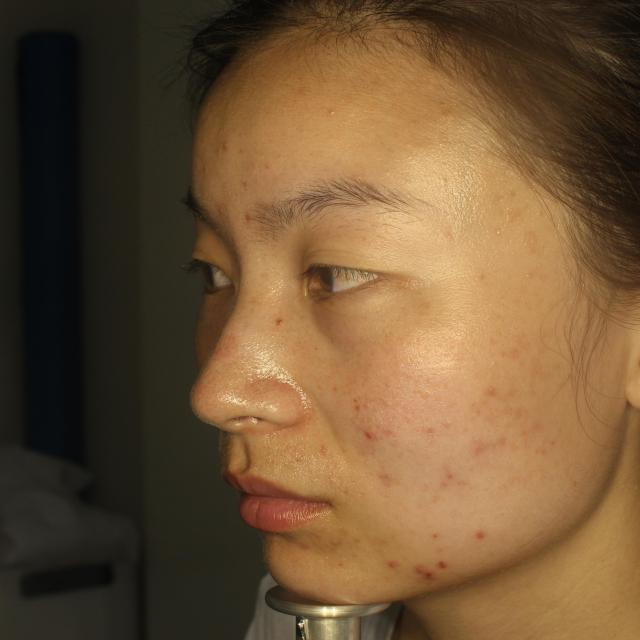acne: (439, 464, 472, 494), (376, 552, 406, 579), (464, 434, 497, 457), (344, 397, 371, 422), (213, 139, 241, 161), (238, 207, 264, 228), (357, 424, 379, 446), (372, 466, 391, 488), (429, 555, 448, 572), (412, 560, 427, 581)
